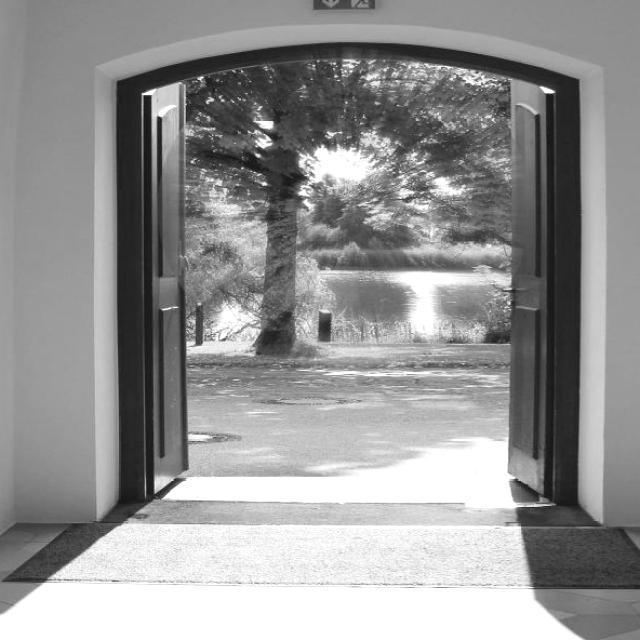door: (502, 72, 551, 494), (142, 82, 191, 484)
